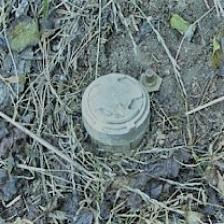M14: (81, 71, 154, 154)
